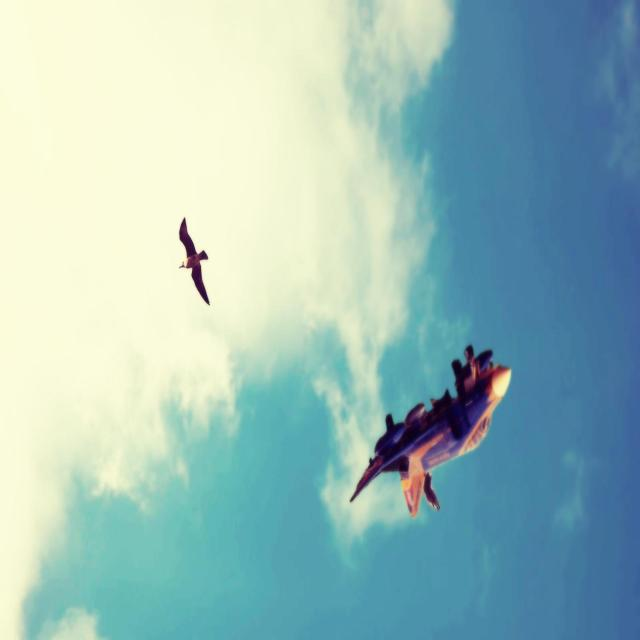airplane: (349, 342, 512, 518)
